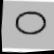no answer: (7, 6, 48, 42)
